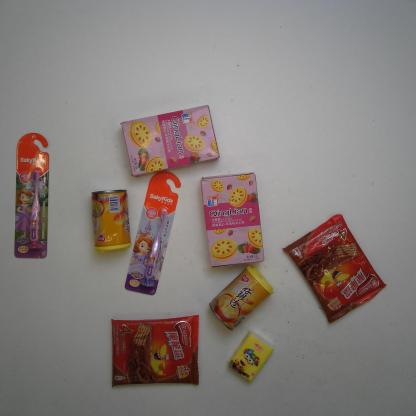Canned Food: (208, 264, 275, 331), (91, 189, 132, 253)
Dessert: (282, 213, 387, 324), (119, 105, 220, 176), (111, 314, 199, 388), (200, 171, 265, 269)
Personal Hygiene: (124, 170, 182, 295), (14, 132, 49, 258)
Tissue: (227, 330, 274, 382)
